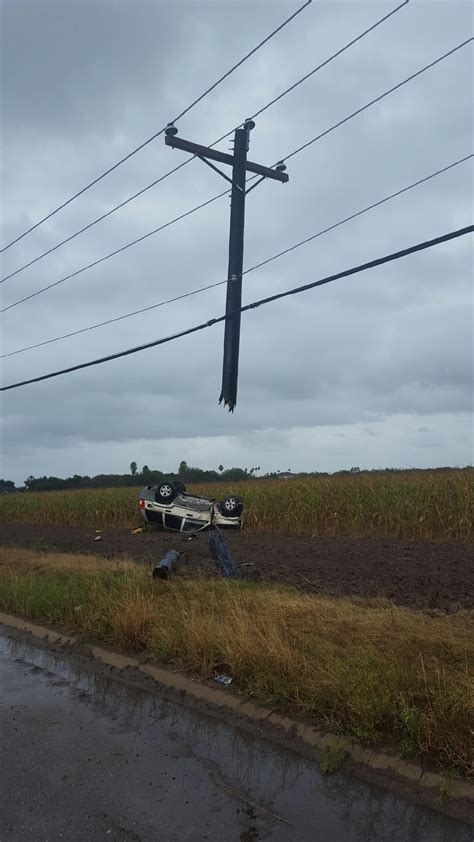pole: (145, 99, 333, 424)
